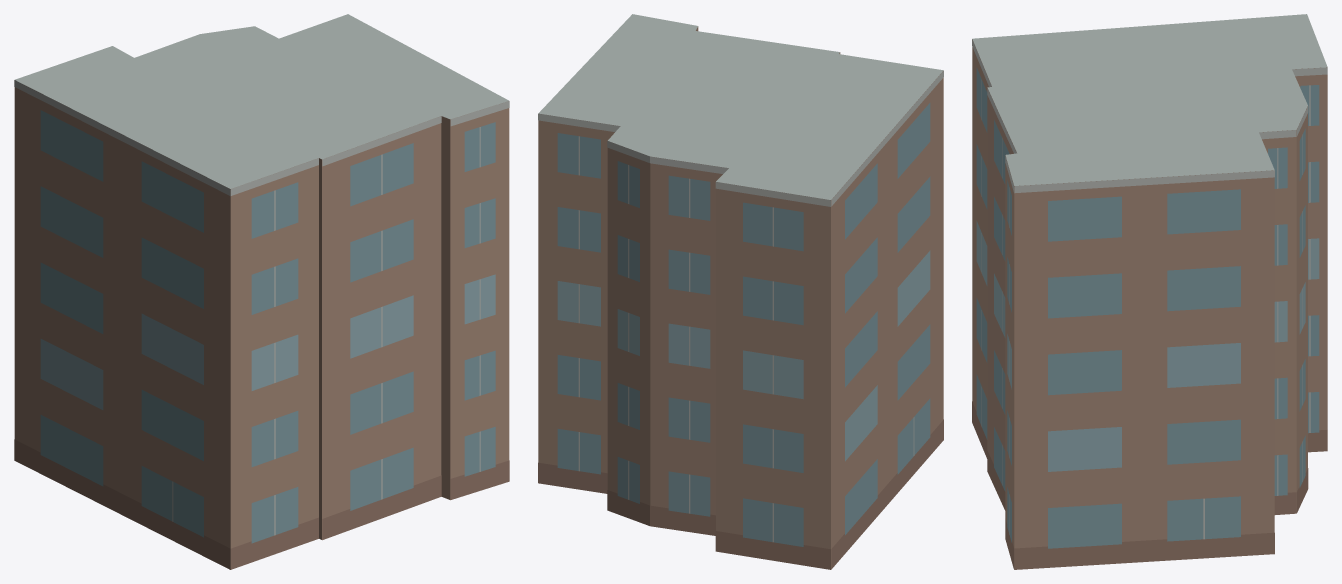
Rendered from survey-upis-32843675.glb.
3 views of the same model, side by side, from view 1: azimuth 30°, elevation 25°; view 2: azimuth 150°, elevation 25°; view 3: azimuth 270°, elevation 25° (orthographic). The views are drawn at different scales.
Parts seen in each view (by area): view 1: survey-upis-32843675.tmp; view 2: survey-upis-32843675.tmp; view 3: survey-upis-32843675.tmp.
Boxes of the visible parts, x1,y1,x2,y2 form: survey-upis-32843675.tmp: (14, 14, 509, 569); survey-upis-32843675.tmp: (538, 14, 943, 569); survey-upis-32843675.tmp: (972, 14, 1327, 569).
Bounding box in the file's own units: 12.6 × 13.1 × 11.01.
